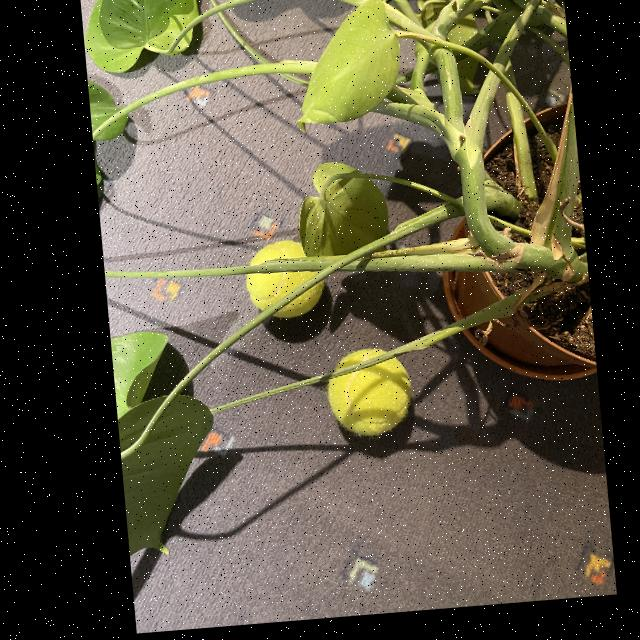Tennisball: (328, 358, 411, 436), (246, 272, 317, 311), (276, 284, 323, 318), (251, 240, 305, 262), (337, 349, 383, 369)
